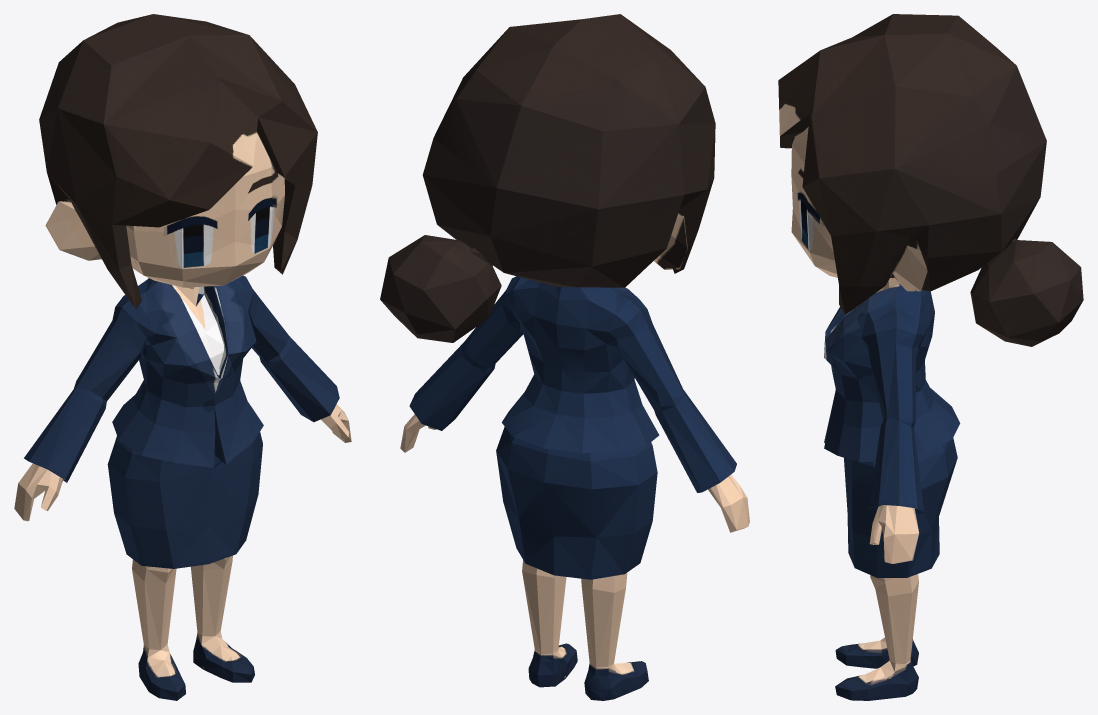
File: b-image.glb
The picture shows the model from 3 angles, left to right: view 1: azimuth 30°, elevation 25°; view 2: azimuth 150°, elevation 25°; view 3: azimuth 270°, elevation 25°; orthographic projection. The views are drawn at different scales.
Size of the model in its own units: 1.07 by 2 by 0.8624.
Materials: 1 (1 with a texture image).
